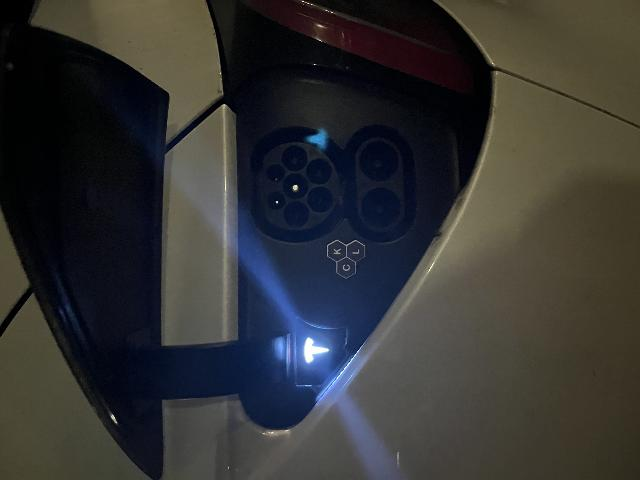inlet: (250, 263, 338, 339)
inlet-above-left: (270, 268, 288, 285)
inlet-above-right: (298, 266, 316, 284)
inlet-below-left: (268, 306, 293, 333)
inlet-below-right: (295, 306, 321, 332)
inlet-circle: (281, 283, 307, 309)
inlet-circle-left: (253, 282, 280, 309)
inlet-circle-right: (309, 281, 335, 307)
inlet-minus: (298, 359, 339, 398)
inlet-plus: (253, 361, 292, 400)
